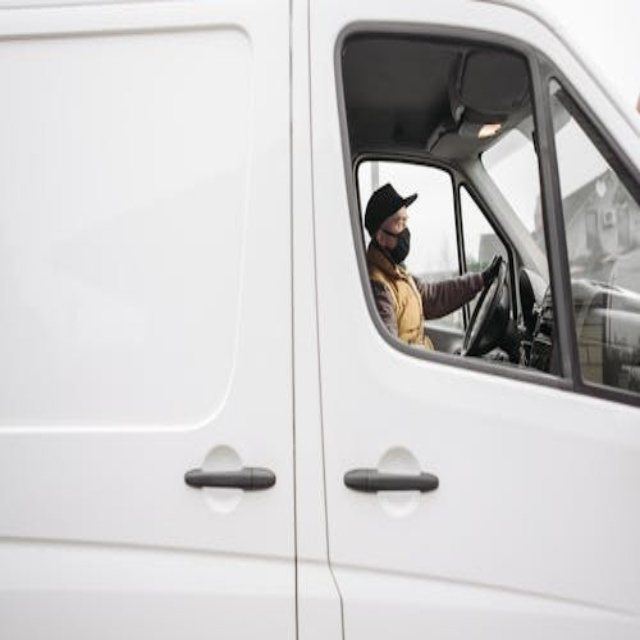Guantes: (482, 255, 505, 290)
Mascara: (385, 229, 411, 264)
Sin_gafas: (385, 211, 411, 226)
